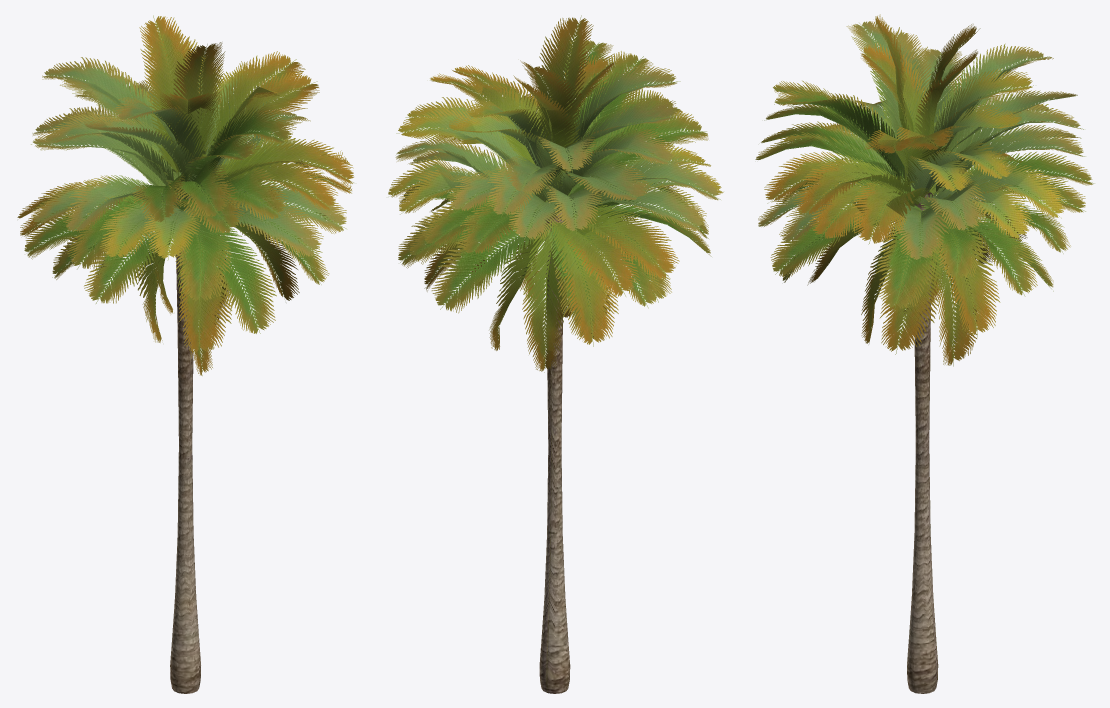
The model's file is tree_palm.glb.
The picture shows the model from 3 angles, left to right: view 1: azimuth 30°, elevation 25°; view 2: azimuth 150°, elevation 25°; view 3: azimuth 270°, elevation 25°; orthographic projection.
Visible parts, largest first — view 1: palm; view 2: palm; view 3: palm.
Boxes of the visible parts, <box> form: palm: <box>17,15,353,693</box>; palm: <box>388,15,723,693</box>; palm: <box>755,14,1094,693</box>.
Bounding box in the file's own units: 0.6689 × 1.42 × 0.6556.
Materials: 1 (1 with a texture image).
